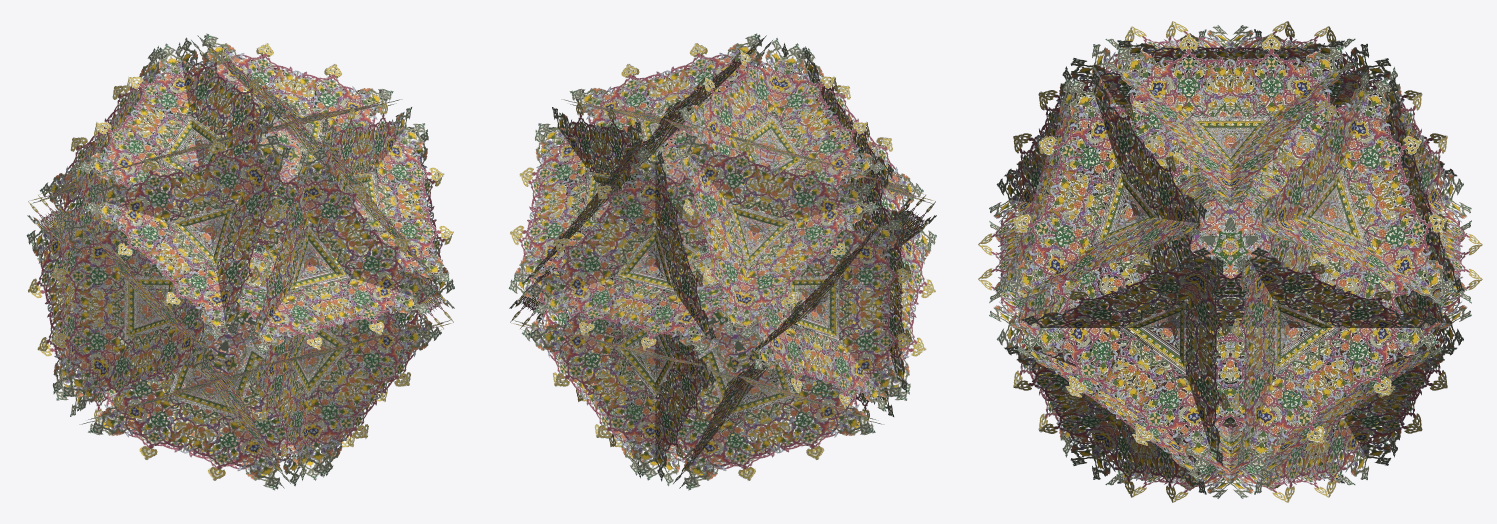
File: GreatDodecahedron2.obj
3 views of the same model, side by side, from view 1: azimuth 30°, elevation 25°; view 2: azimuth 150°, elevation 25°; view 3: azimuth 270°, elevation 25° (orthographic). The views are drawn at different scales.
Bounding box in the file's own units: 1.62 × 1.62 × 1.62.
Materials: 1 (1 with a texture image).
